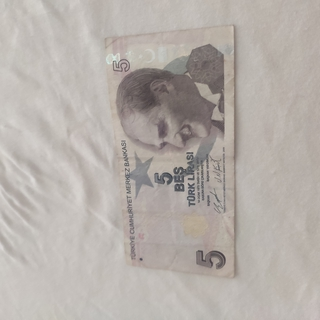5TLFront: (102, 24, 236, 279)
